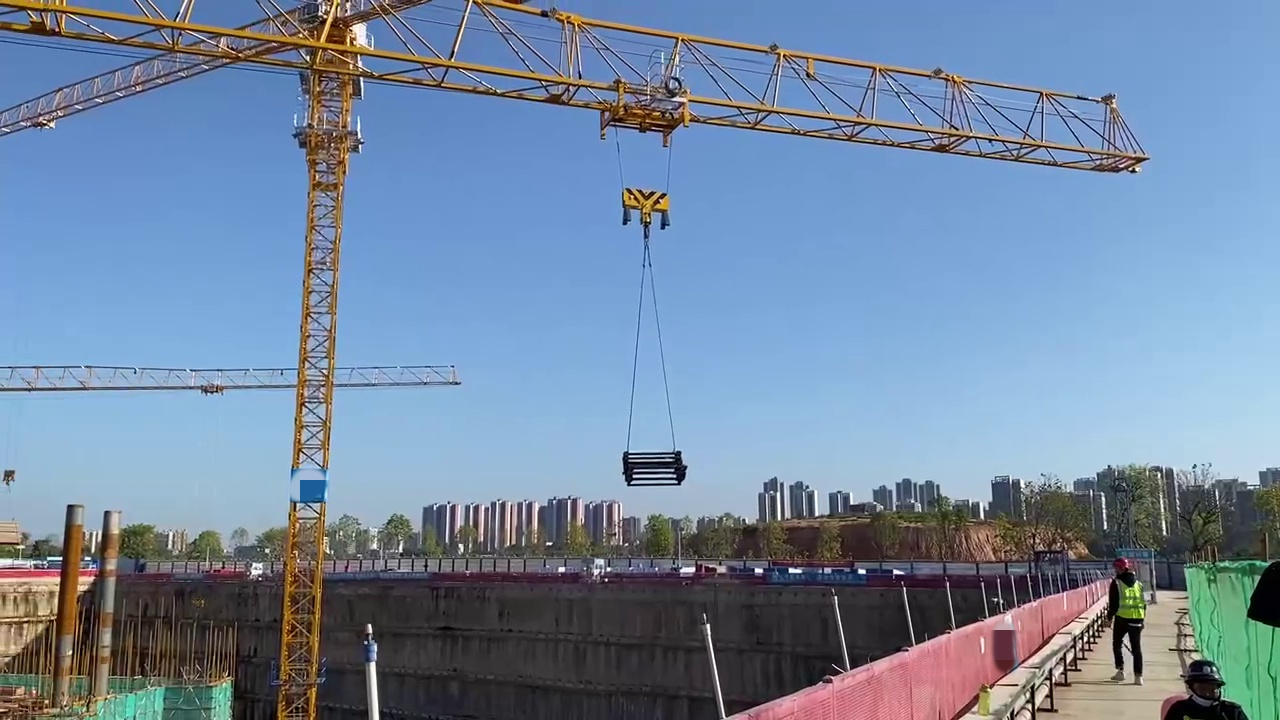fence: (753, 610, 1002, 720), (1003, 576, 1105, 660)
helmet: (1181, 660, 1228, 684), (1108, 558, 1131, 571)
hook: (617, 187, 673, 229)
person: (1104, 554, 1148, 683), (1160, 654, 1246, 720)
vest: (1113, 576, 1144, 621)
